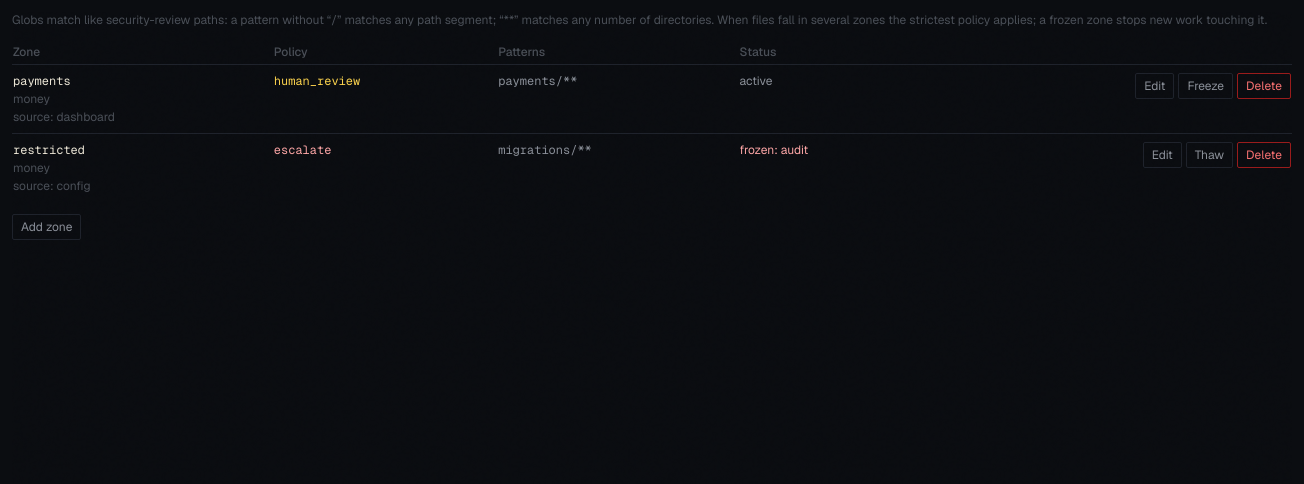
Test: RepositoryZonesEditor › adds a zone with POST and shows a server error
Expected: the row with test id "zone-row-payments" is shown, 12,64 -> 1292,134
Click the button "Add zone" at (47, 227), box 12,214 -> 81,240
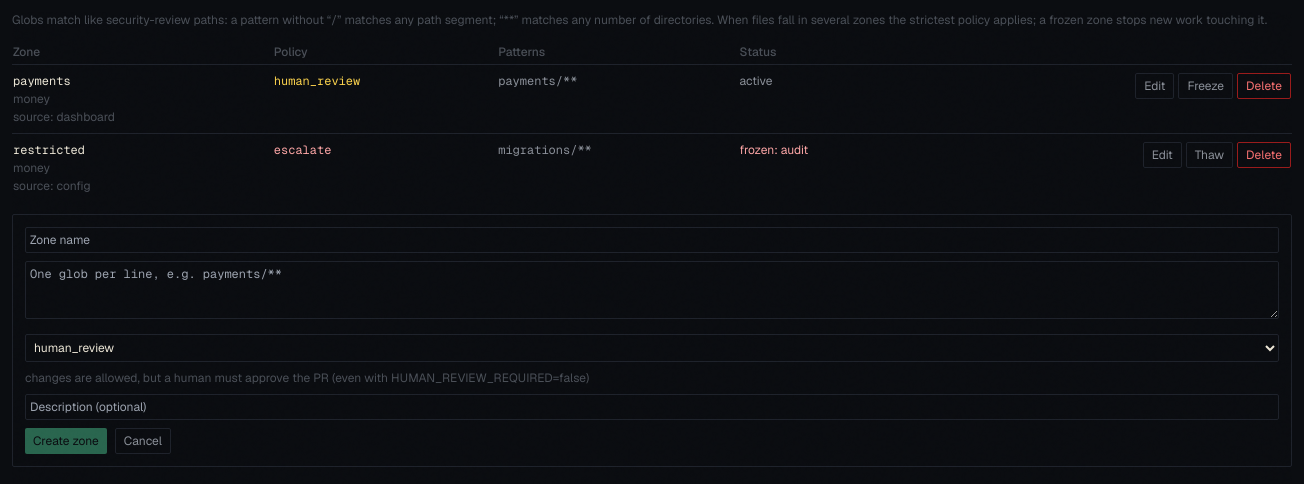
Type "ledger" into the field named "New zone name" at (652, 240), box 25,227 -> 1279,253
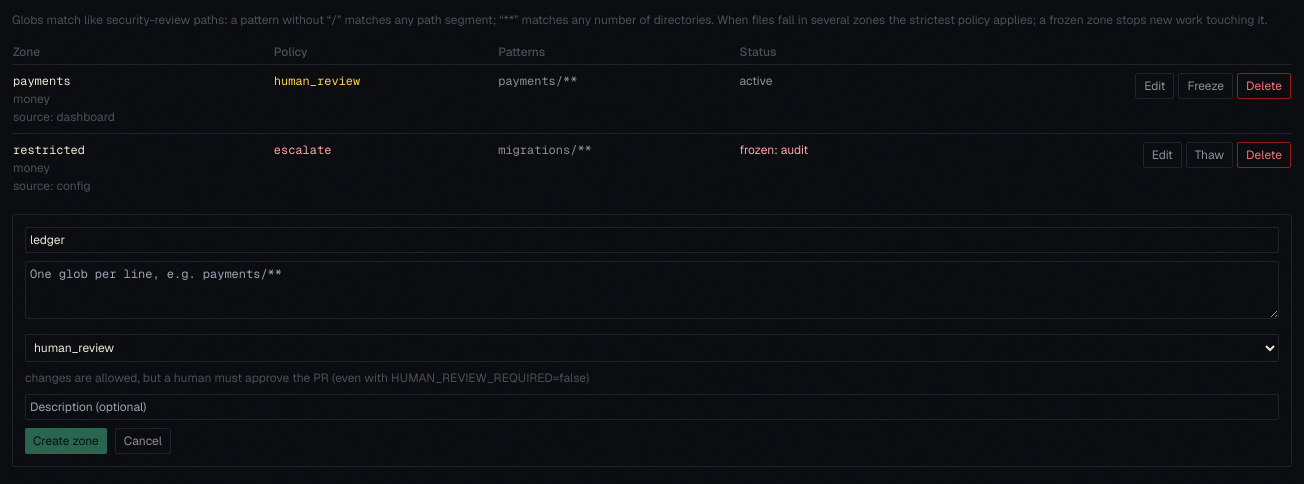
Type "ledger/**" into the text box named "New zone patterns" at (652, 290), box 25,261 -> 1279,319
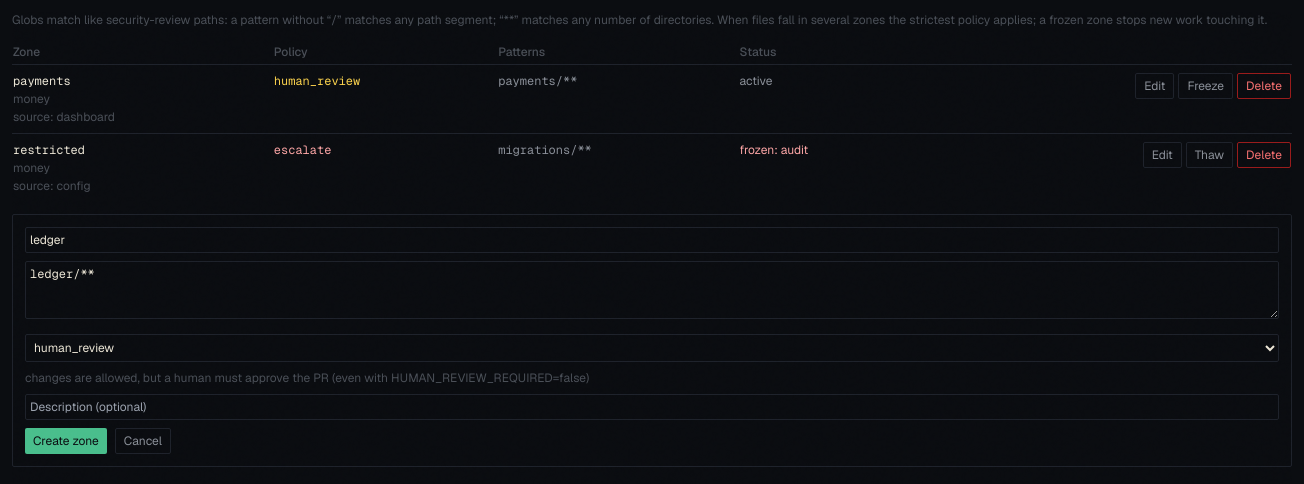
Select "escalate" in the dropdown named "New zone policy" at (652, 348), box 25,334 -> 1279,362
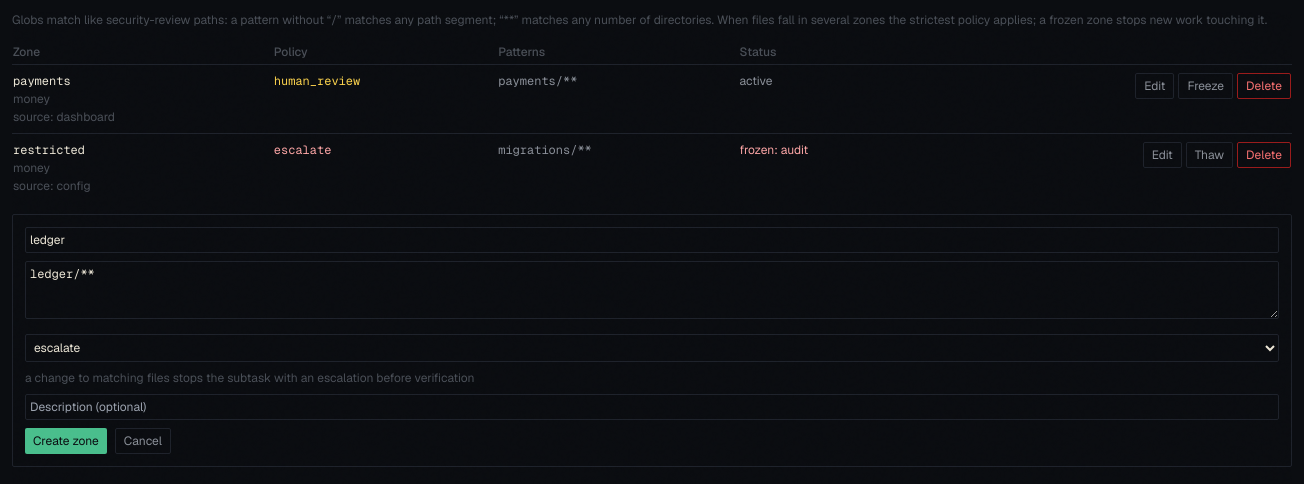
Click the button "Create zone" at (66, 441), box 25,428 -> 107,454
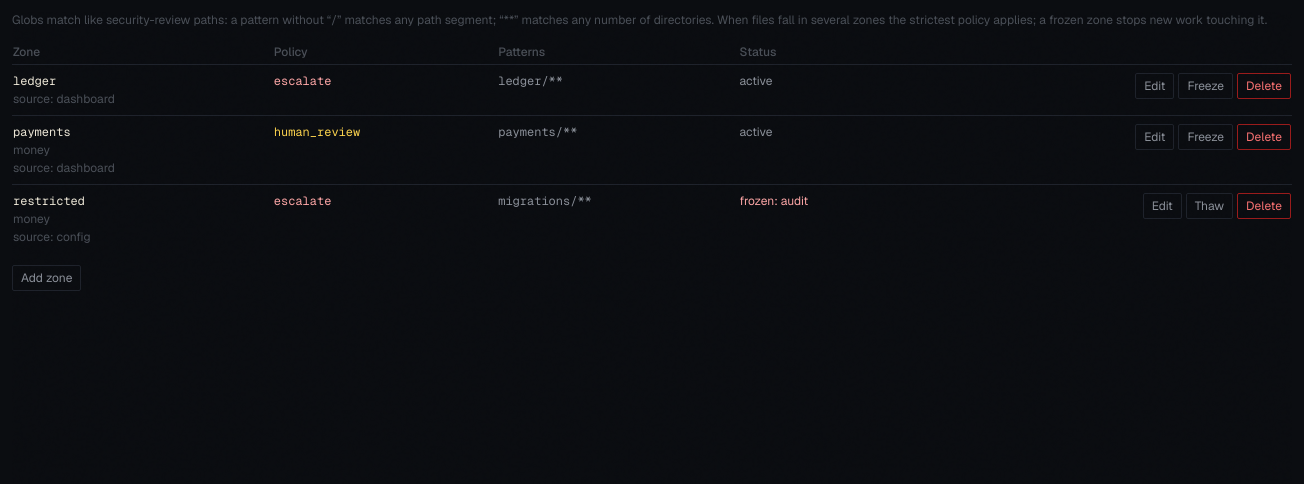
Expected: the row with test id "zone-row-ledger" is shown, 12,64 -> 1292,116
